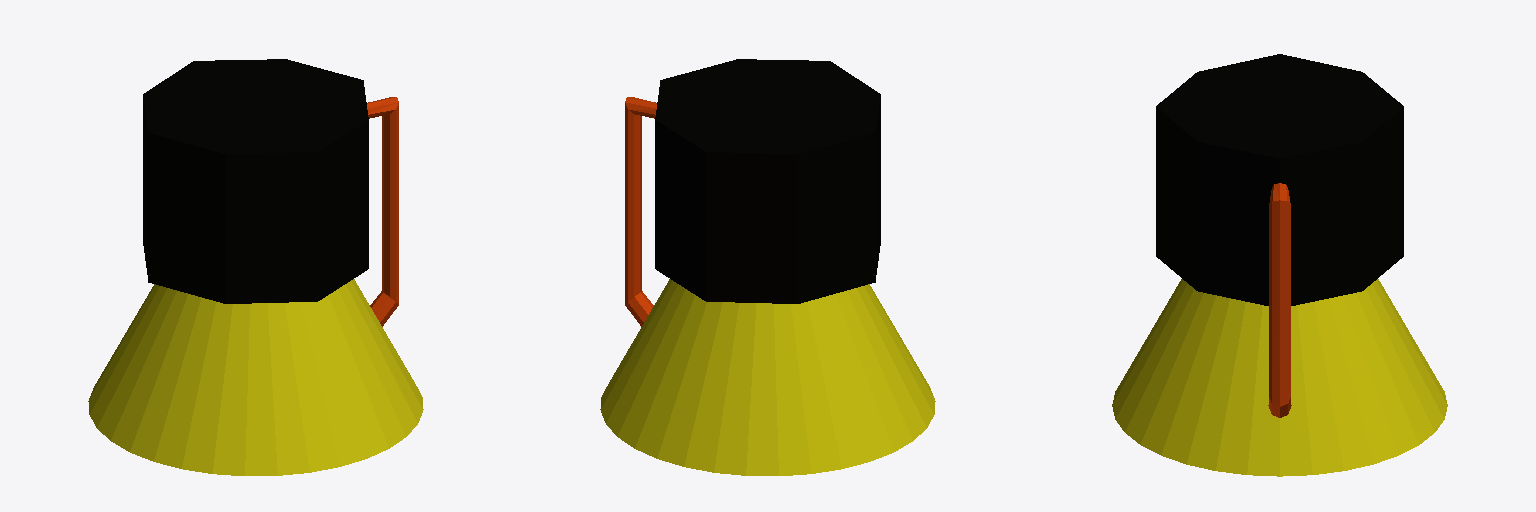
The model's file is RocketThruster_001.obj.
3 renders of one model, left to right at view 1: azimuth 30°, elevation 25°; view 2: azimuth 150°, elevation 25°; view 3: azimuth 270°, elevation 25°, orthographic.
Visible parts, largest first — view 1: Rocket_001_Cylinder.003; view 2: Rocket_001_Cylinder.003; view 3: Rocket_001_Cylinder.003.
Boxes of the visible parts, x1,y1,x2,y2 form: Rocket_001_Cylinder.003: [88, 59, 423, 475]; Rocket_001_Cylinder.003: [600, 59, 935, 475]; Rocket_001_Cylinder.003: [1112, 54, 1447, 476].
Size of the model in its own units: 4.07 by 4 by 4.07.